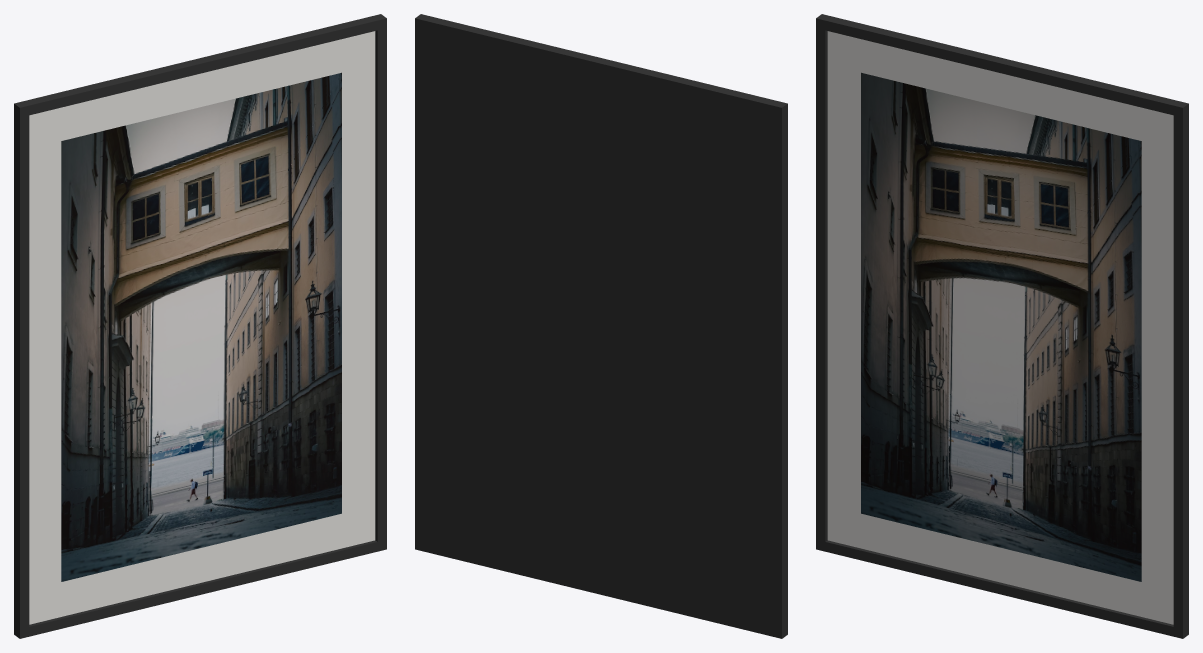
Rendered from valvet-90.gltf.
3 views of the same model, side by side, from view 1: azimuth 30°, elevation 25°; view 2: azimuth 150°, elevation 25°; view 3: azimuth 330°, elevation 25° (orthographic).
Parts seen in each view (by area): view 1: tavla; view 2: tavla; view 3: tavla.
Part boxes in pixels (x1=…): tavla: x1=14, y1=14, x2=386, y2=638; tavla: x1=415, y1=14, x2=787, y2=638; tavla: x1=816, y1=14, x2=1188, y2=638.
Bounding box in the file's own units: 0.784 × 1.08 × 0.022.
3 materials, 1 textured.
